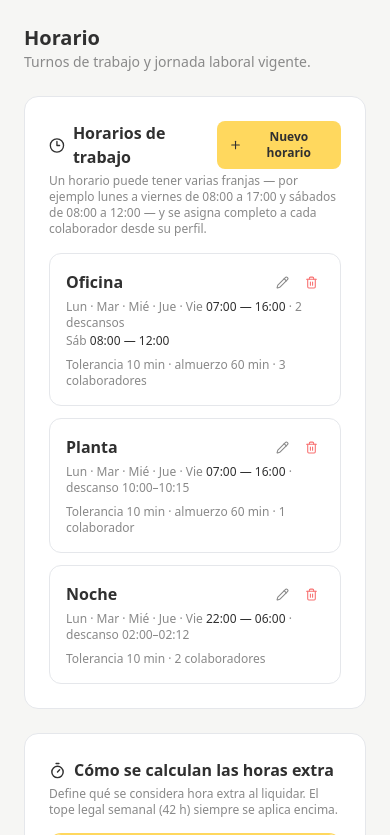
Test case: TabHorario · los descansos no remunerados › un turno nocturno que cruza la medianoche cuenta sus horas en la jornada semanal y no avisa que dura poco
This screenshot has width=390, height=835.
Click the button named "Editar el horario Noche": (282, 594) top-left (270, 582), bottom-right (295, 607)
(page scrolled)
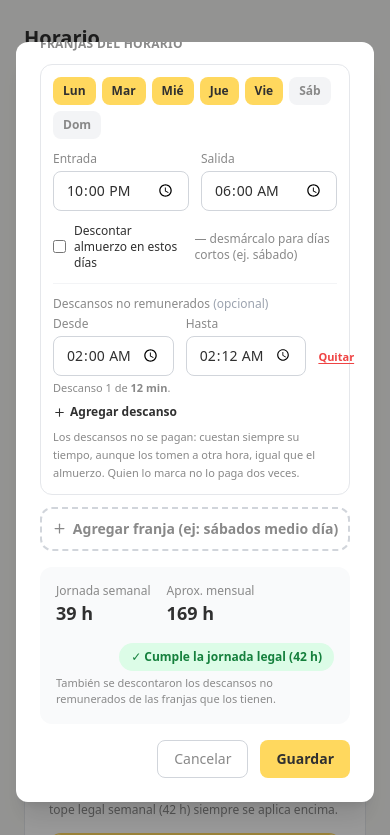
Check: the text "39 h" is shown, box top-left (56, 601), bottom-right (93, 625)
